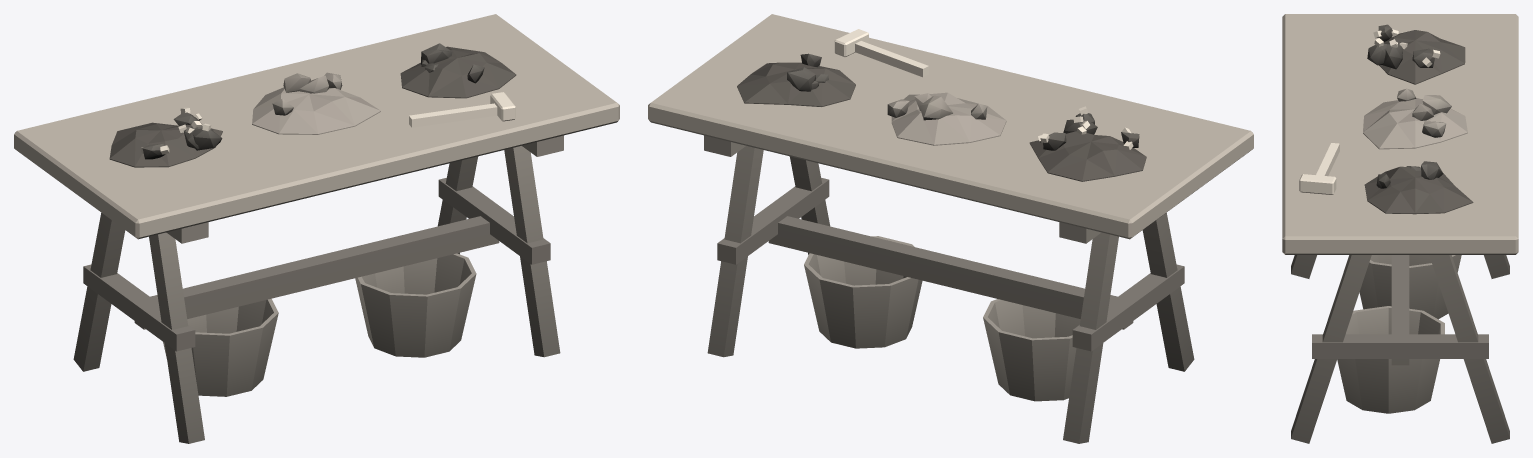
The model's file is SM_VKI_Prop_Mine_Bench.fbx.
3 views of the same model, side by side, from view 1: azimuth 30°, elevation 25°; view 2: azimuth 150°, elevation 25°; view 3: azimuth 270°, elevation 25° (orthographic). The views are drawn at different scales.
Parts seen in each view (by area): view 1: SM_VKI_Prop_Mine_Bench.001; view 2: SM_VKI_Prop_Mine_Bench.001; view 3: SM_VKI_Prop_Mine_Bench.001.
Part boxes in pixels (x1=…): SM_VKI_Prop_Mine_Bench.001: x1=14, y1=14, x2=619, y2=443; SM_VKI_Prop_Mine_Bench.001: x1=648, y1=14, x2=1253, y2=443; SM_VKI_Prop_Mine_Bench.001: x1=1282, y1=14, x2=1518, y2=443.
Size of the model in its own units: 1.8 by 0.9787 by 0.8.
